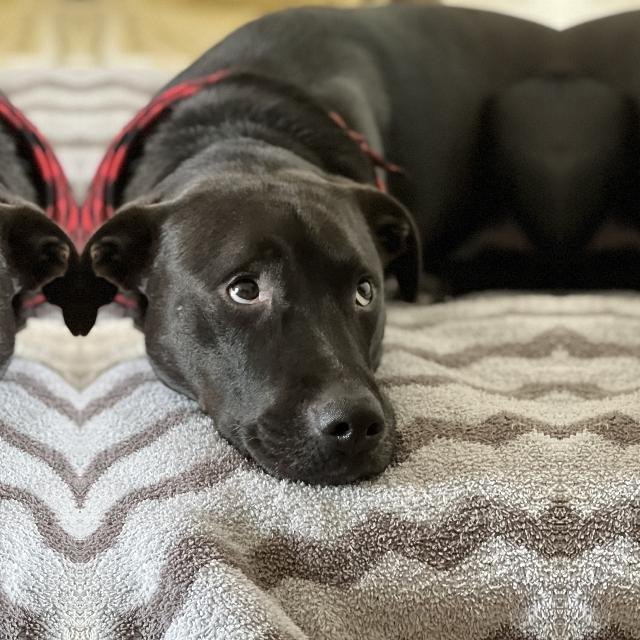dog: (84, 128, 458, 504), (0, 127, 76, 504)
